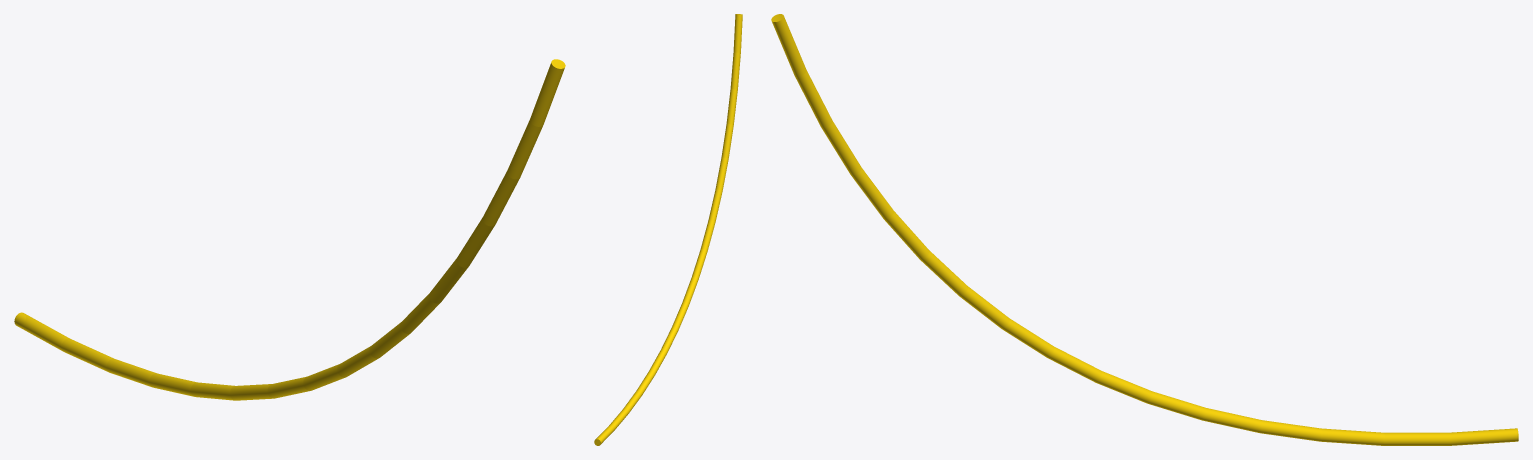
File: Event_420094457_track_35.fbx
3 views of the same model, side by side, from view 1: azimuth 30°, elevation 25°; view 2: azimuth 150°, elevation 25°; view 3: azimuth 270°, elevation 25° (orthographic). The views are drawn at different scales.
Visible parts, largest first — view 1: Model; view 2: Model; view 3: Model.
Part boxes in pixels (x1,y1,x2,y2): Model: (14, 59, 565, 400); Model: (594, 14, 742, 445); Model: (771, 14, 1518, 445).
Bounding box in the file's own units: 0.4368 × 1.59 × 2.24.
